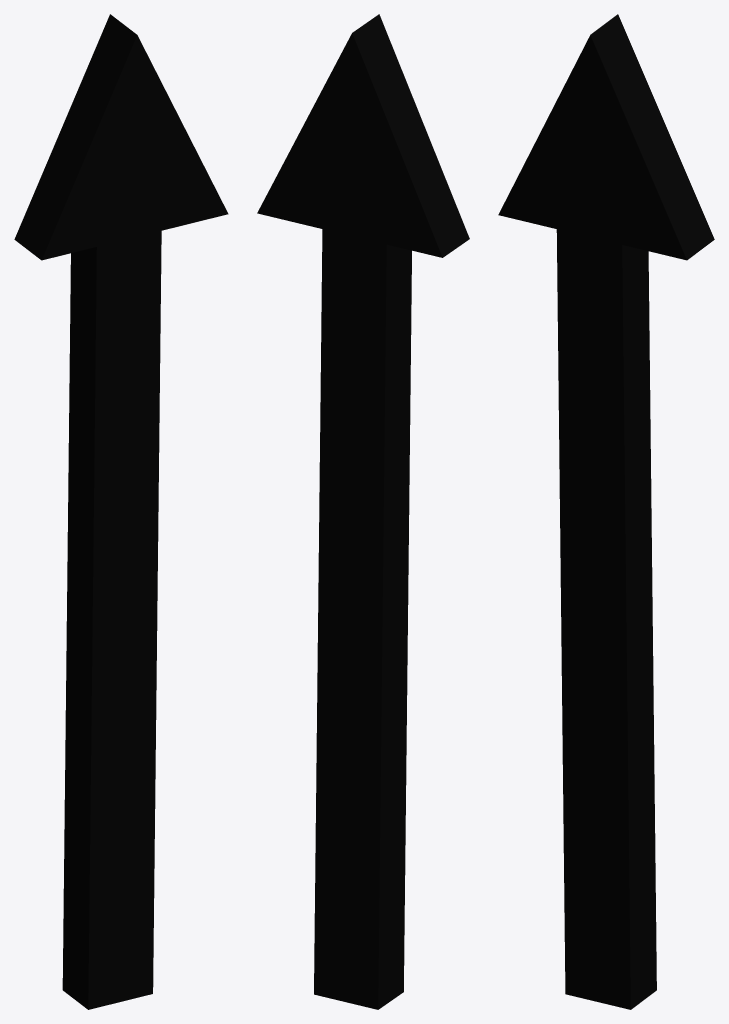
The model's file is horero.obj.
The picture shows the model from 3 angles, left to right: view 1: azimuth 30°, elevation 25°; view 2: azimuth 150°, elevation 25°; view 3: azimuth 330°, elevation 25°; orthographic projection.
Parts seen in each view (by area): view 1: pPrism2; view 2: pPrism2; view 3: pPrism2.
Part boxes in pixels (<box>): pPrism2: <box>14,14,228,1009</box>; pPrism2: <box>257,14,469,1009</box>; pPrism2: <box>498,14,714,1009</box>.
Size of the model in its own units: 0.0493 by 0.2445 by 0.0173.
Materials: 1 (1 with a texture image).
